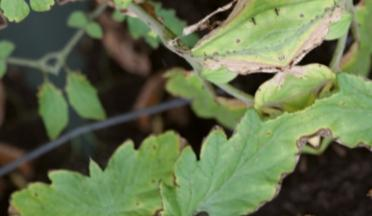Tomato Early blight leaf: (129, 87, 334, 216), (162, 0, 298, 130), (79, 0, 251, 35)
